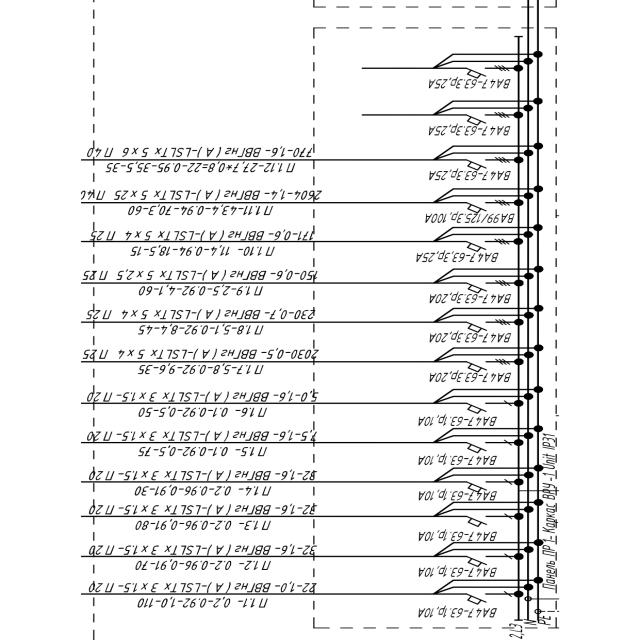-: (540, 432, 559, 592), (427, 168, 514, 182), (427, 123, 513, 137), (427, 77, 513, 91), (424, 370, 516, 383), (424, 211, 516, 224), (415, 414, 500, 428), (415, 488, 500, 502), (410, 251, 501, 264), (427, 292, 518, 305), (418, 564, 502, 578), (417, 528, 501, 542), (428, 331, 516, 344), (414, 606, 499, 619), (414, 454, 498, 467)
QF: (464, 438, 489, 455), (466, 399, 491, 416), (464, 318, 490, 333), (464, 156, 490, 171), (463, 112, 489, 127), (465, 358, 490, 373), (462, 481, 488, 495), (463, 199, 489, 213), (465, 280, 490, 294), (466, 238, 491, 252), (464, 554, 490, 567), (466, 514, 490, 528), (464, 592, 488, 605), (466, 65, 489, 78)
